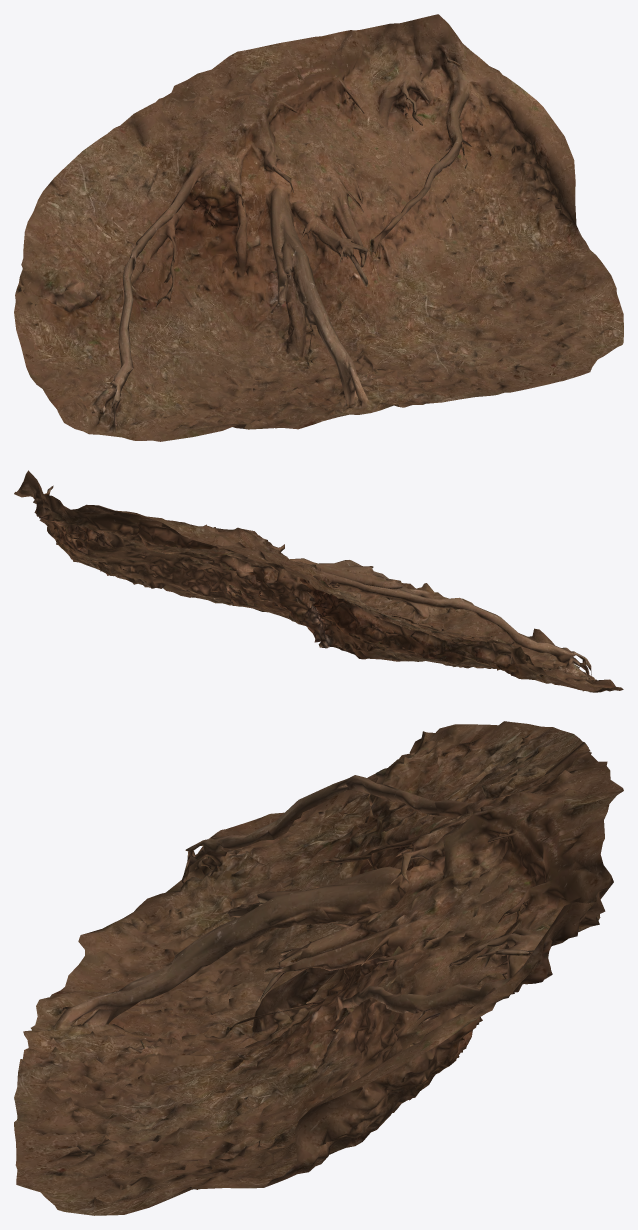
File: roots.glb
The picture shows the model from 3 angles, top to bottom: view 1: azimuth 30°, elevation 25°; view 2: azimuth 150°, elevation 25°; view 3: azimuth 270°, elevation 25°; orthographic projection. The views are drawn at different scales.
Visible parts, largest first — view 1: root_cluster_01; view 2: root_cluster_01; view 3: root_cluster_01.
Part boxes in pixels (<box>): root_cluster_01: <box>14,14,623,441</box>; root_cluster_01: <box>14,470,623,692</box>; root_cluster_01: <box>14,721,623,1215</box>.
Size of the model in its own units: 4.12 by 1.51 by 2.68.
1 material, 1 textured.
